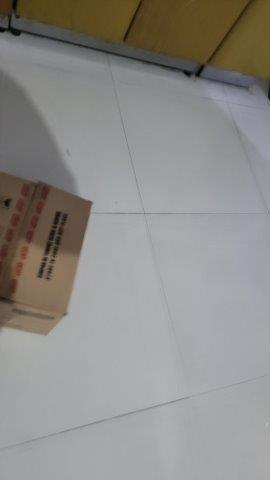kardus: (1, 173, 92, 336)
